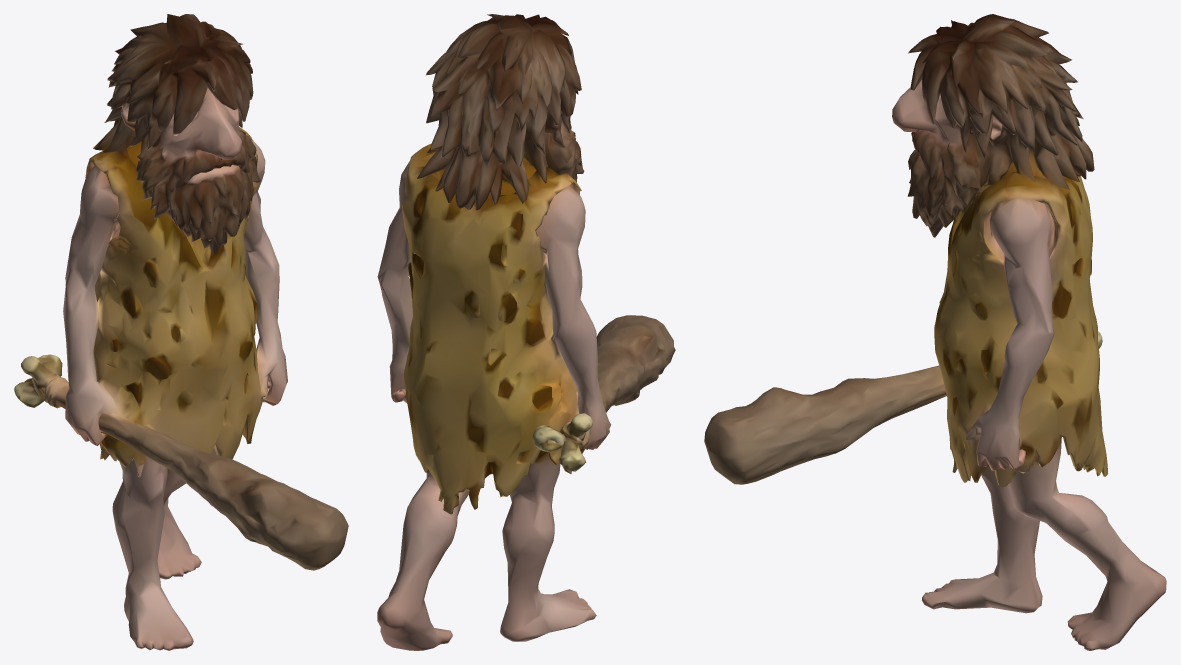
File: caveman_club.glb
The picture shows the model from 3 angles, left to right: view 1: azimuth 30°, elevation 25°; view 2: azimuth 150°, elevation 25°; view 3: azimuth 270°, elevation 25°; orthographic projection.
Parts seen in each view (by area): view 1: model; view 2: model; view 3: model.
Boxes of the visible parts, <box> form: model: <box>14,14,348,650</box>; model: <box>377,14,675,650</box>; model: <box>704,14,1166,650</box>.
Size of the model in its own units: 0.759 by 1.9 by 1.32.
